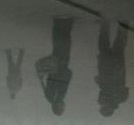person: (34, 15, 77, 116), (94, 19, 129, 116), (3, 45, 27, 101)
